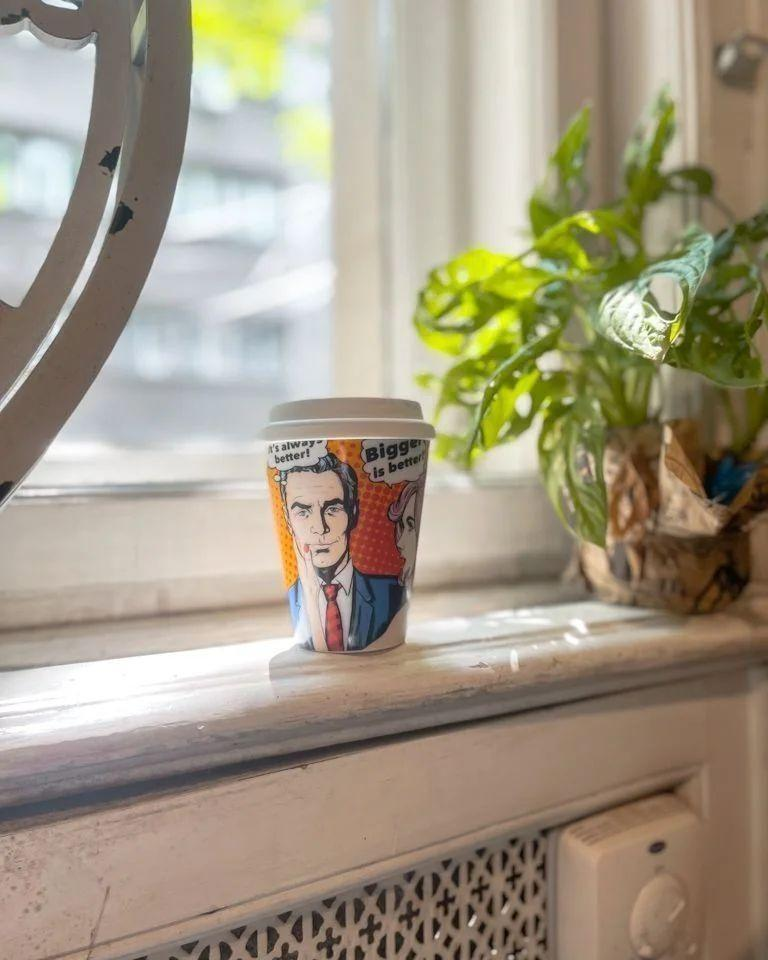cup-disposable: (256, 393, 438, 658)
